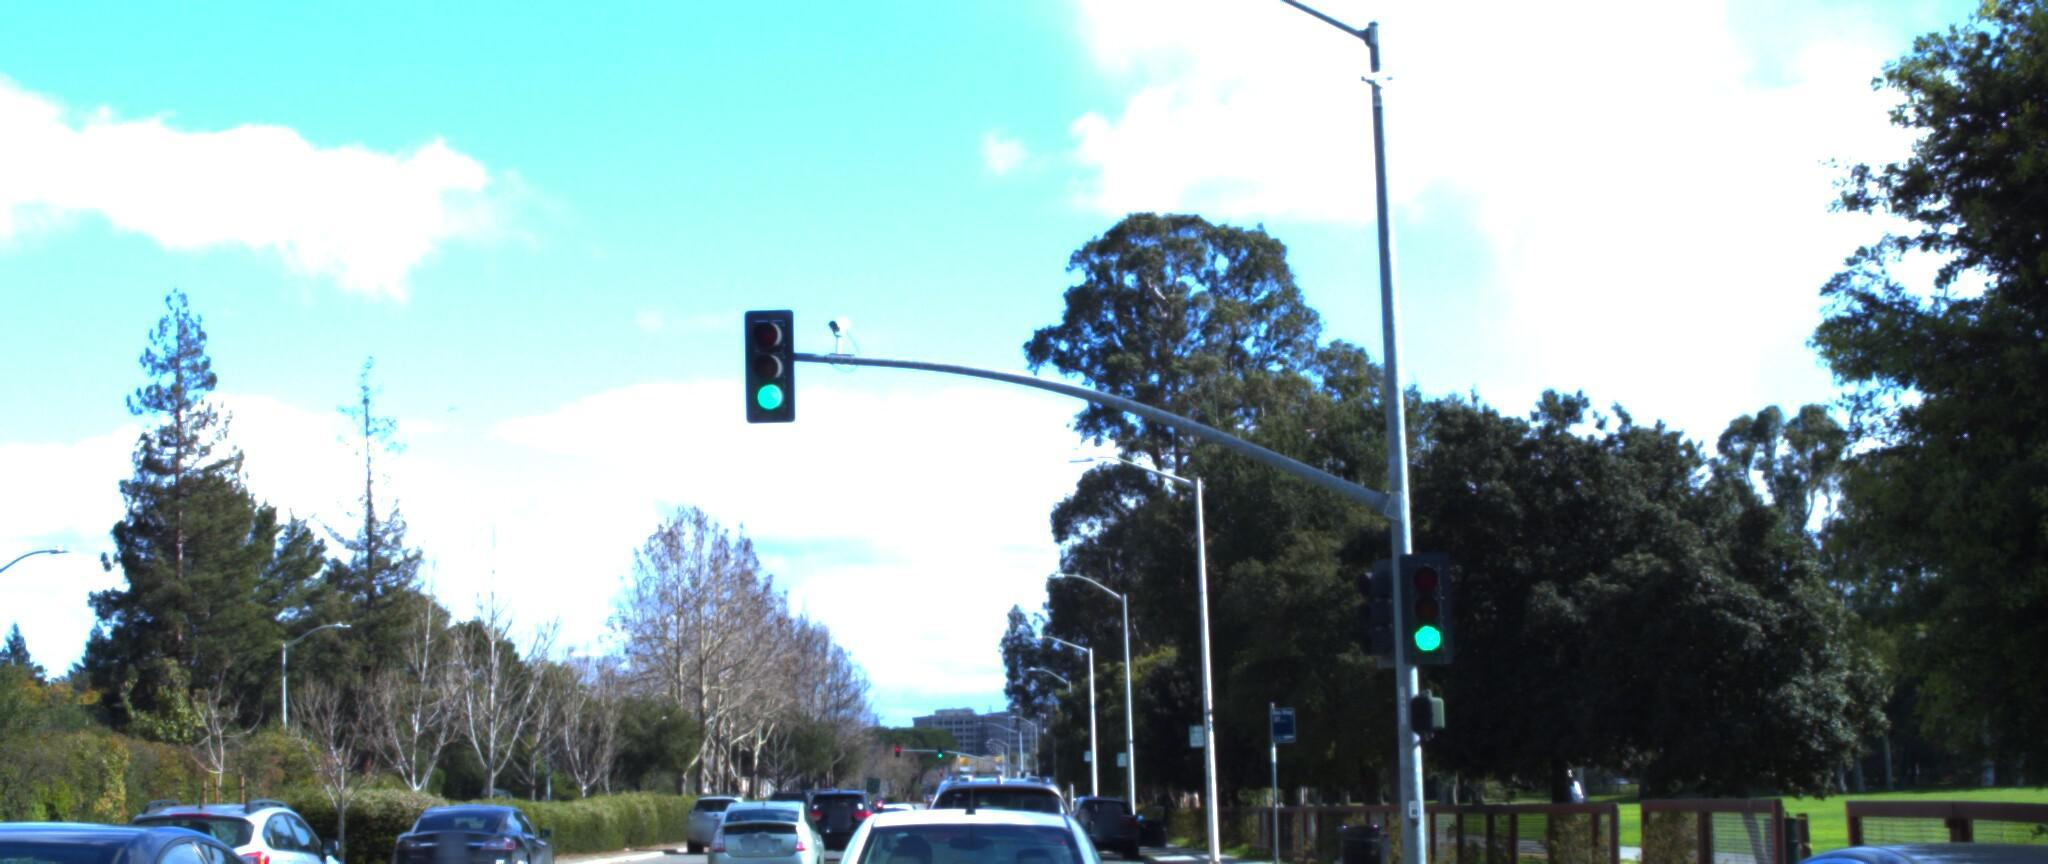car: (778, 717, 1152, 864), (0, 758, 396, 864), (1563, 796, 2048, 864), (63, 760, 377, 864), (947, 710, 1108, 864), (387, 764, 567, 864), (701, 769, 825, 864), (0, 762, 84, 864), (1057, 766, 1152, 837), (811, 762, 893, 837)
